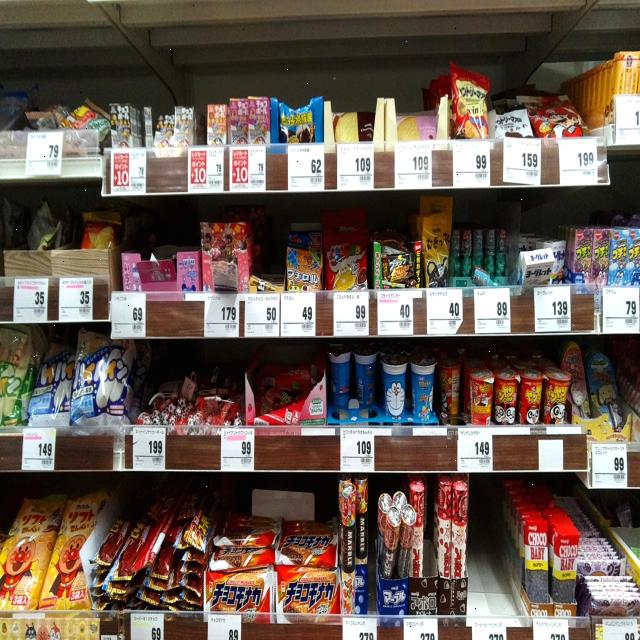objects: (286, 144, 326, 192), (502, 138, 542, 186), (337, 142, 375, 192), (202, 289, 240, 338), (376, 290, 414, 338), (426, 288, 464, 336), (474, 286, 512, 334), (534, 286, 572, 334), (456, 425, 494, 473), (590, 442, 628, 490), (111, 290, 147, 340), (339, 425, 375, 474), (560, 139, 598, 185), (332, 292, 370, 338), (230, 144, 266, 192), (58, 276, 94, 324), (14, 274, 48, 324), (221, 424, 255, 474), (187, 148, 225, 192), (394, 144, 432, 188), (452, 142, 490, 186), (604, 286, 640, 332), (243, 294, 280, 336), (110, 151, 146, 194), (21, 429, 57, 472), (132, 424, 166, 469), (26, 134, 62, 176), (282, 294, 316, 338), (130, 609, 166, 640), (342, 614, 378, 640), (206, 615, 242, 640), (602, 616, 638, 640), (471, 618, 507, 640), (402, 620, 438, 640), (534, 620, 568, 640)
